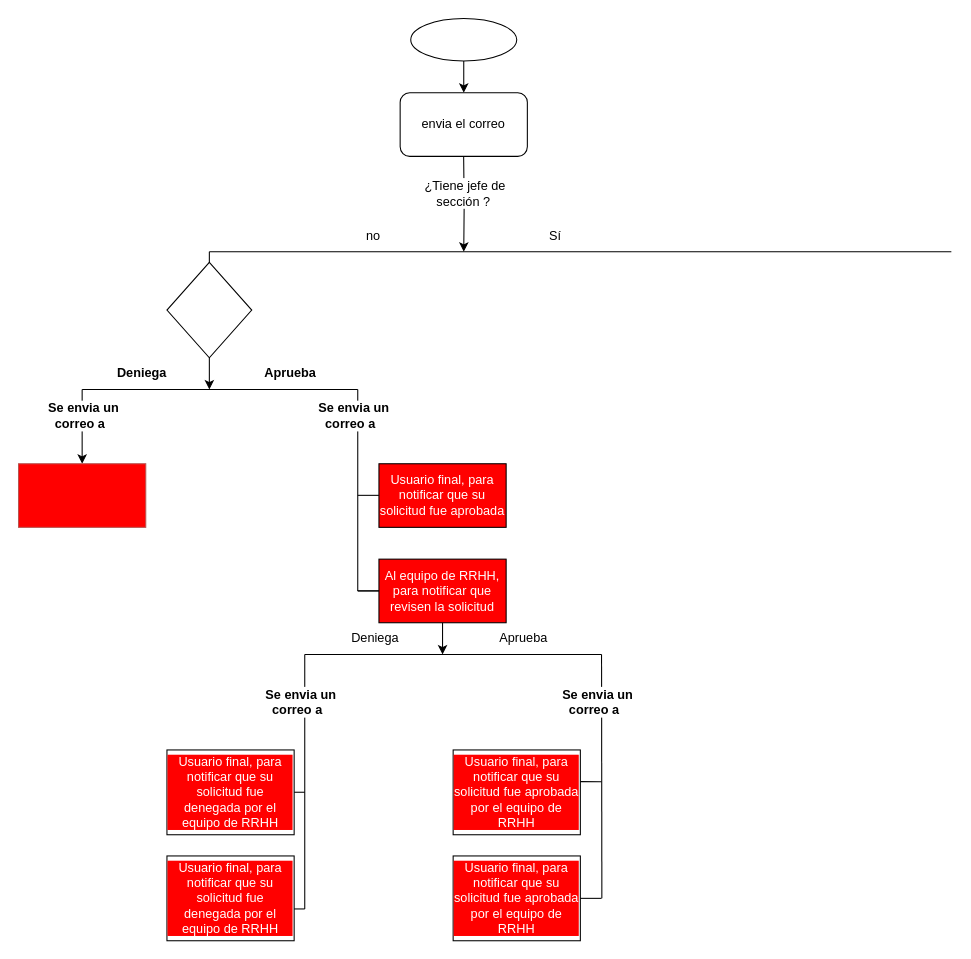
The diagram is 971 pixels wide and 959 high, and some of its shapes have lost their labels. The centre of each missing label's shape, as x and y in pixels:
Director aprueba o deniega: the point at 209,309
Usuario (Jefe): the point at 463,39
Usuario final, para que pueda revisar su solicitud: the point at 81,495
